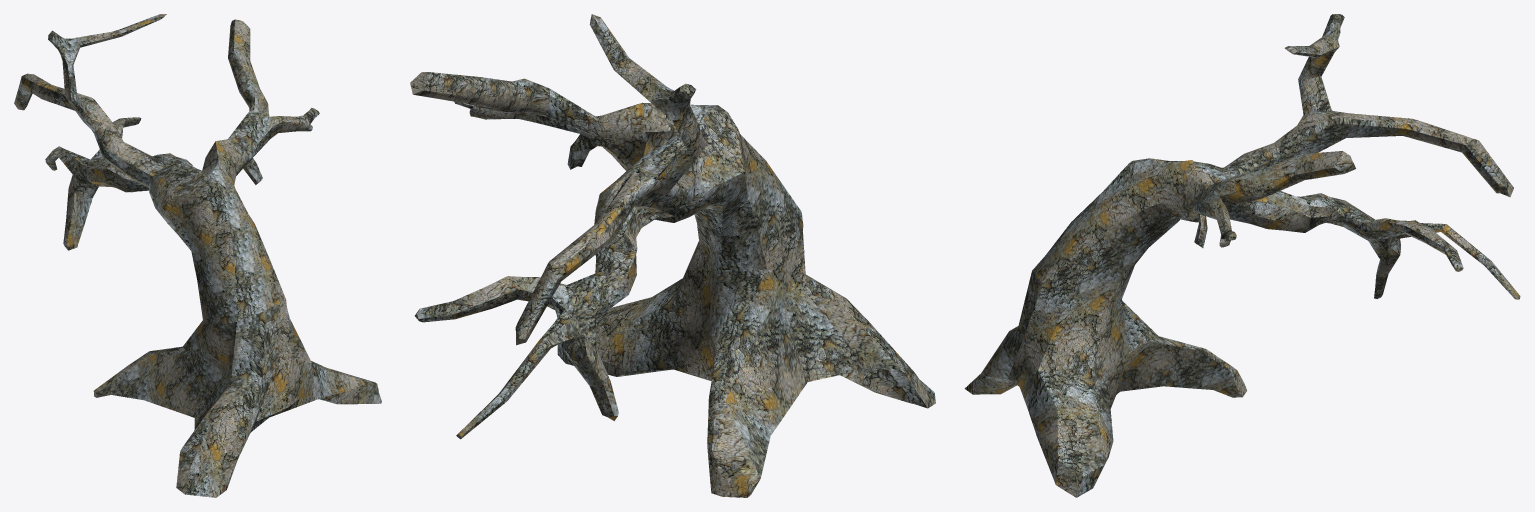
File: tree002.obj
3 views of the same model, side by side, from view 1: azimuth 30°, elevation 25°; view 2: azimuth 150°, elevation 25°; view 3: azimuth 270°, elevation 25° (orthographic). The views are drawn at different scales.
Visible parts, largest first — view 1: tree002; view 2: tree002; view 3: tree002.
Boxes of the visible parts, box(x1,y1,x2,y2) form: tree002: box(14, 14, 381, 497); tree002: box(410, 14, 935, 497); tree002: box(964, 14, 1520, 497).
Bounding box in the file's own units: 165 × 228 × 293.
1 material, 1 textured.
